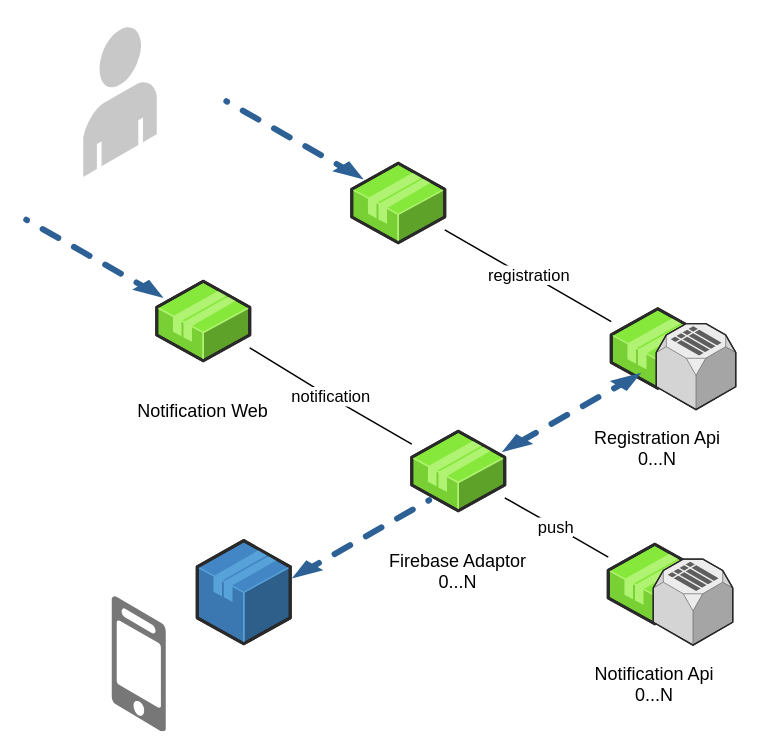
Some shapes in this 762 by 756 pixel diagram are drawn without their labels. The box of each missing label's shape, as (x1, y1, x2, y2) in pixels:
FCM: (196, 539, 290, 644)
Registration Web: (350, 162, 445, 243)
